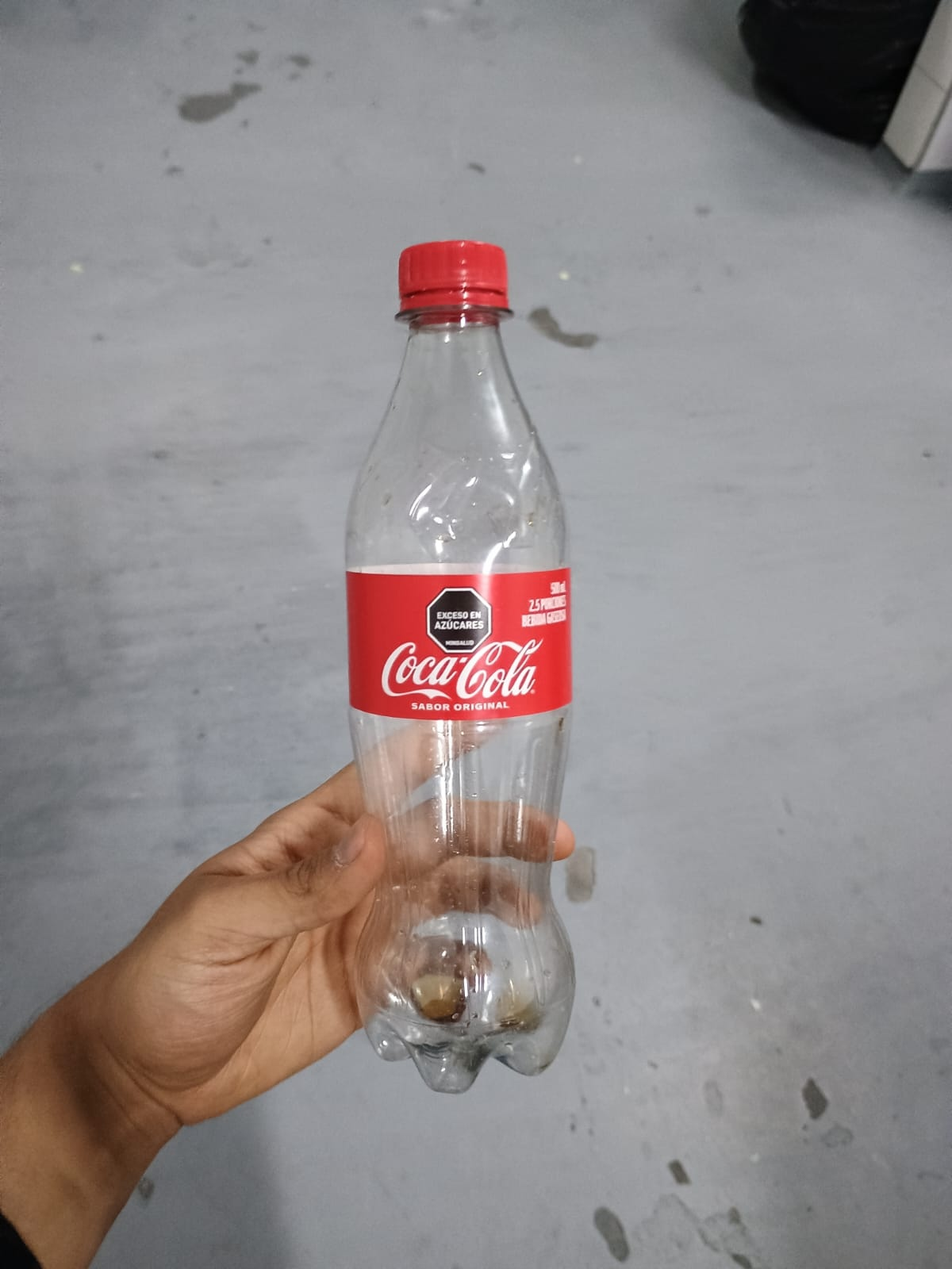Plastico: (345, 242, 570, 1092)
